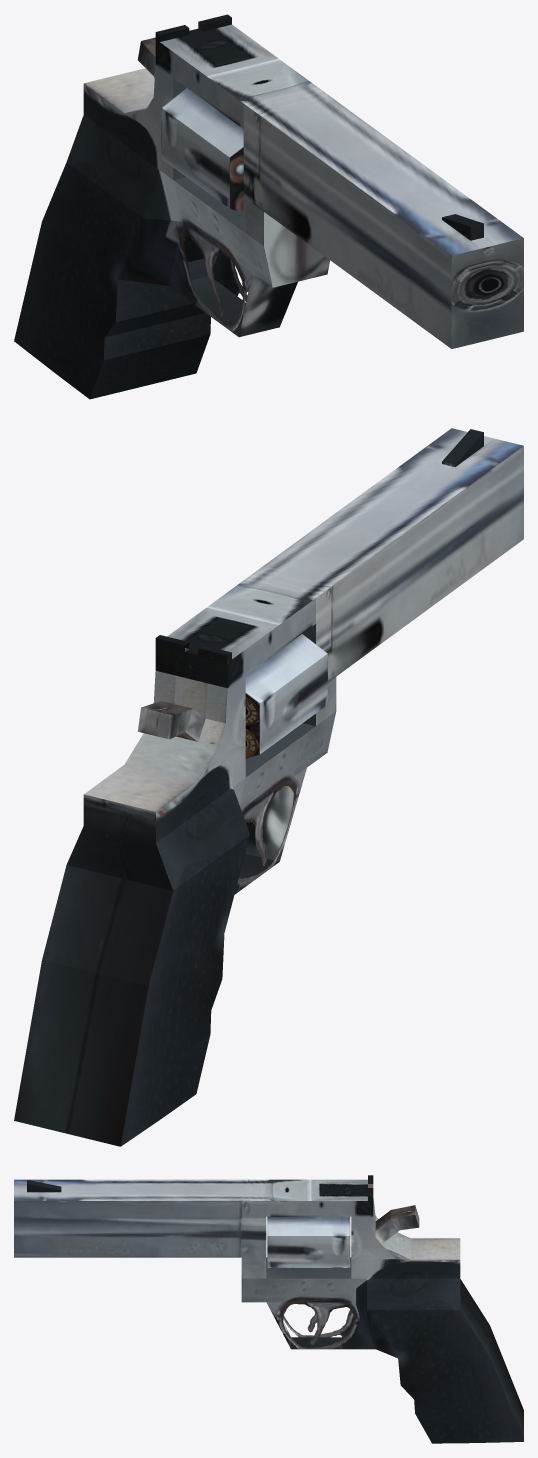
Rendered from Revolver.fbx.
The picture shows the model from 3 angles, top to bottom: view 1: azimuth 30°, elevation 25°; view 2: azimuth 150°, elevation 25°; view 3: azimuth 270°, elevation 25°; orthographic projection. The views are drawn at different scales.
Parts seen in each view (by area): view 1: Revolver, Cylinder; view 2: Revolver, Cylinder; view 3: Revolver, Cylinder.
Boxes of the visible parts, bbox=[...] form: Revolver: bbox=[14, 14, 523, 399]; Cylinder: bbox=[161, 88, 243, 212]; Revolver: bbox=[14, 428, 523, 1146]; Cylinder: bbox=[245, 634, 327, 758]; Revolver: bbox=[14, 1175, 523, 1443]; Cylinder: bbox=[267, 1216, 350, 1267].
Bounding box in the file's own units: 1521 × 223 × 810.
